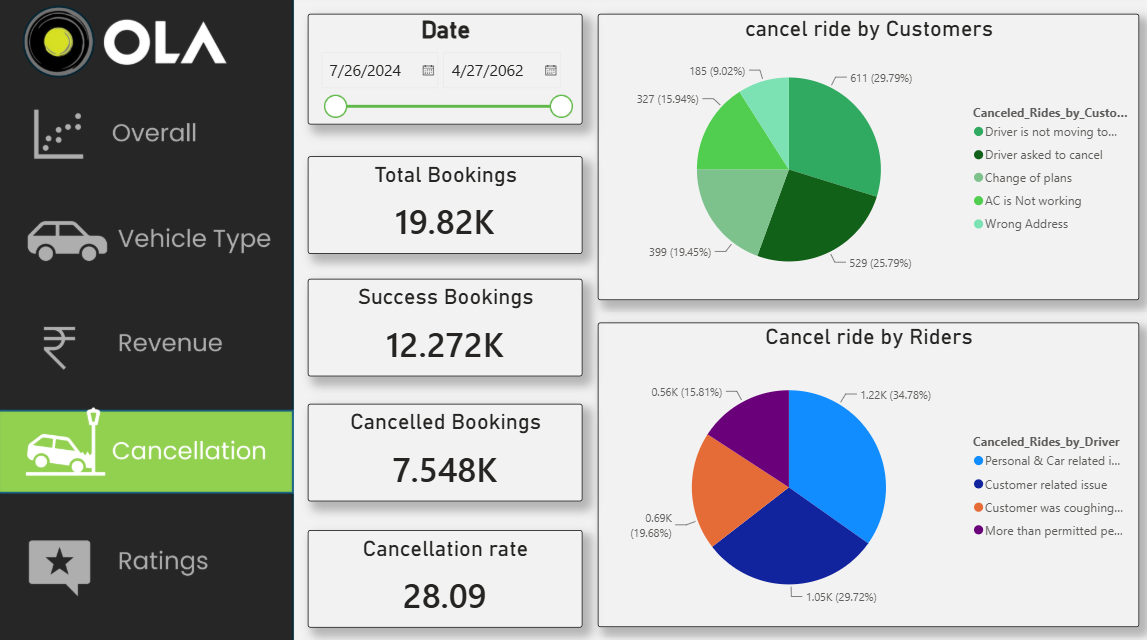

The page's visual inventory and layout, read from the dashboard file:
{"tool":"powerbi","page":{"name":"Cancellation","canvas":[1280,720],"ordinal":3},"visuals":[{"type":"actionButton","box":[0,222,322.1,90.5],"z":0},{"type":"actionButton","box":[0,334.2,322.1,90.5],"z":1000},{"type":"actionButton","box":[0,456,322.1,90.5],"z":2000},{"type":"actionButton","box":[0,585.1,322.1,90.5],"z":3000},{"type":"actionButton","box":[0,113.4,322.1,90.5],"z":4000},{"type":"pieChart","title":"cancel ride by Customers","fields":{"Category":["July.Canceled_Rides_by_Customer"],"Y":["CountNonNull(July.Canceled_Rides_by_Customer)"]},"box":[657.1,20,594.3,314.3],"z":5000},{"type":"pieChart","title":"Cancel ride by Riders","fields":{"Category":["July.Canceled_Rides_by_Driver"],"Y":["CountNonNull(July.Canceled_Rides_by_Driver)"]},"box":[657.1,360,594.3,334.3],"z":6000},{"type":"slicer","title":"Date","fields":{"Values":["July.Date"]},"box":[338.6,20,301.4,121.4],"z":7000},{"type":"cardVisual","title":"Total Bookings","fields":{"Data":["CountNonNull(July.Booking_Status)"]},"box":[338.6,177.1,301.4,107.1],"z":8000},{"type":"cardVisual","title":"Success Bookings","fields":{"Data":["CountNonNull(July.Booking_Status)"]},"box":[338.6,311.4,301.4,107.1],"z":9000},{"type":"cardVisual","title":"Cancelled Bookings","fields":{"Data":["CountNonNull(July.Booking_Status)"]},"box":[338.6,448.6,301.4,107.1],"z":10000},{"type":"cardVisual","title":"Cancellation rate","fields":{"Data":["July.canceledPercentage"]},"box":[338.6,587.1,301.4,107.1],"z":11000}]}

Visuals, with their boxes in screenshot pixels (x1, y1, x2, y2), scaled from the page's 1280x720 canvas onto the 1147x640 screenshot:
actionButton: bbox=[0, 197, 289, 278]
actionButton: bbox=[0, 297, 289, 378]
actionButton: bbox=[0, 405, 289, 486]
actionButton: bbox=[0, 520, 289, 601]
actionButton: bbox=[0, 101, 289, 181]
"cancel ride by Customers" pieChart: bbox=[589, 18, 1121, 297]
"Cancel ride by Riders" pieChart: bbox=[589, 320, 1121, 617]
"Date" slicer: bbox=[303, 18, 574, 126]
"Total Bookings" cardVisual: bbox=[303, 157, 574, 253]
"Success Bookings" cardVisual: bbox=[303, 277, 574, 372]
"Cancelled Bookings" cardVisual: bbox=[303, 399, 574, 494]
"Cancellation rate" cardVisual: bbox=[303, 522, 574, 617]
